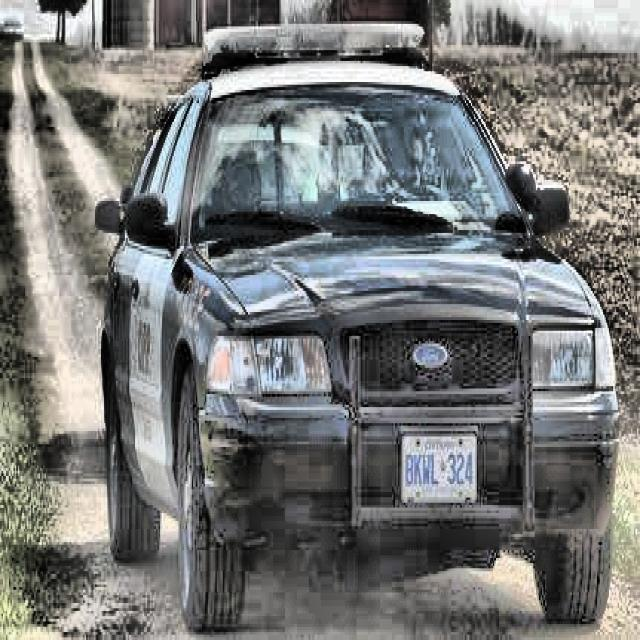license_plate: (401, 432, 478, 503)
